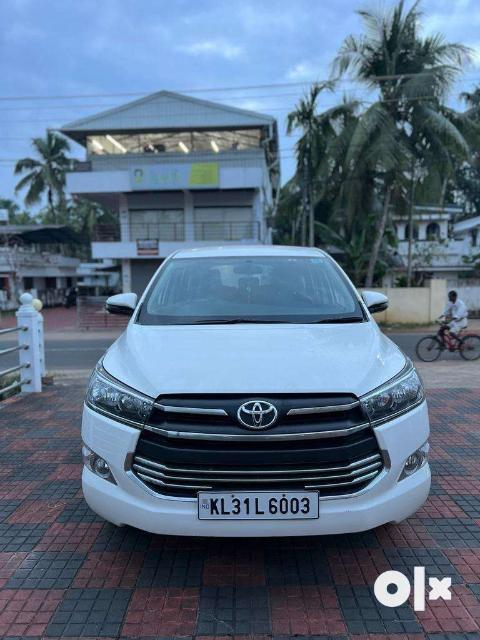Indian_Number_Plate: (198, 492, 319, 518)
